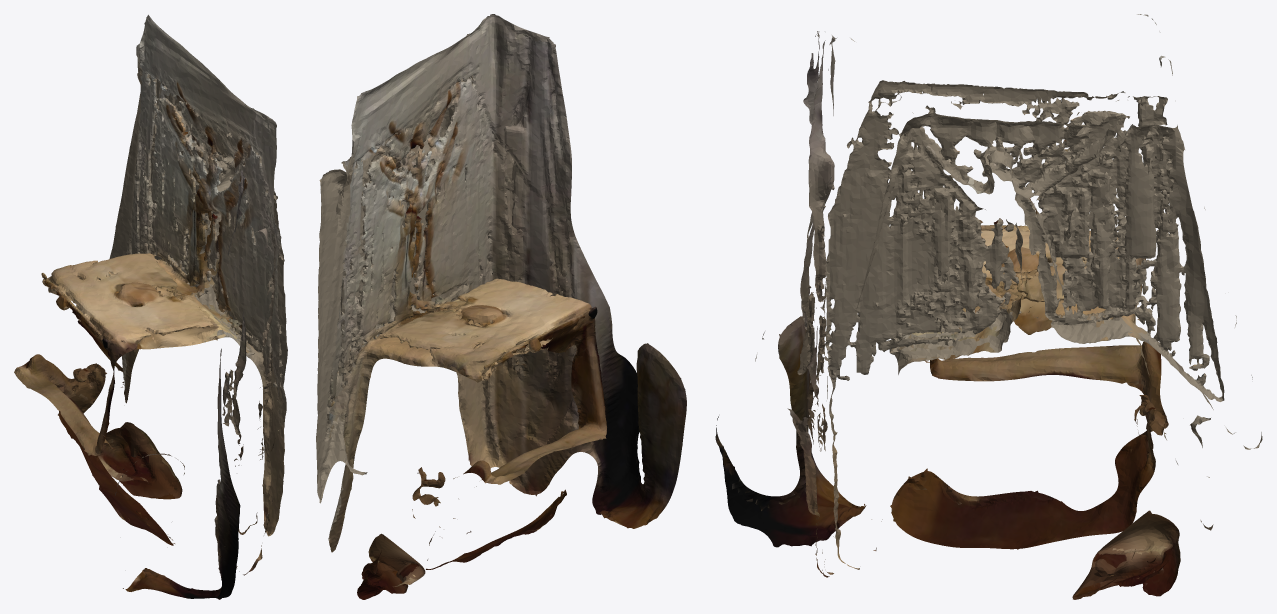
The model's file is testGAOM.glb.
3 views of the same model, side by side, from view 1: azimuth 30°, elevation 25°; view 2: azimuth 150°, elevation 25°; view 3: azimuth 270°, elevation 25° (orthographic). The views are drawn at different scales.
Visible parts, largest first — view 1: 72b829ba-c0c5-4f0c-91b4-78bf5694e798; view 2: 72b829ba-c0c5-4f0c-91b4-78bf5694e798; view 3: 72b829ba-c0c5-4f0c-91b4-78bf5694e798.
Boxes of the visible parts, box(x1,y1,x2,y2) form: 72b829ba-c0c5-4f0c-91b4-78bf5694e798: box(14, 14, 287, 599); 72b829ba-c0c5-4f0c-91b4-78bf5694e798: box(316, 14, 686, 599); 72b829ba-c0c5-4f0c-91b4-78bf5694e798: box(715, 14, 1262, 599).
Size of the model in its own units: 0.4661 by 1.05 by 0.889.
1 material, 1 textured.
